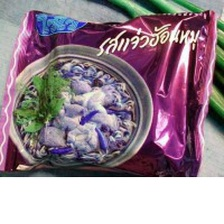snack: (0, 4, 224, 176)
